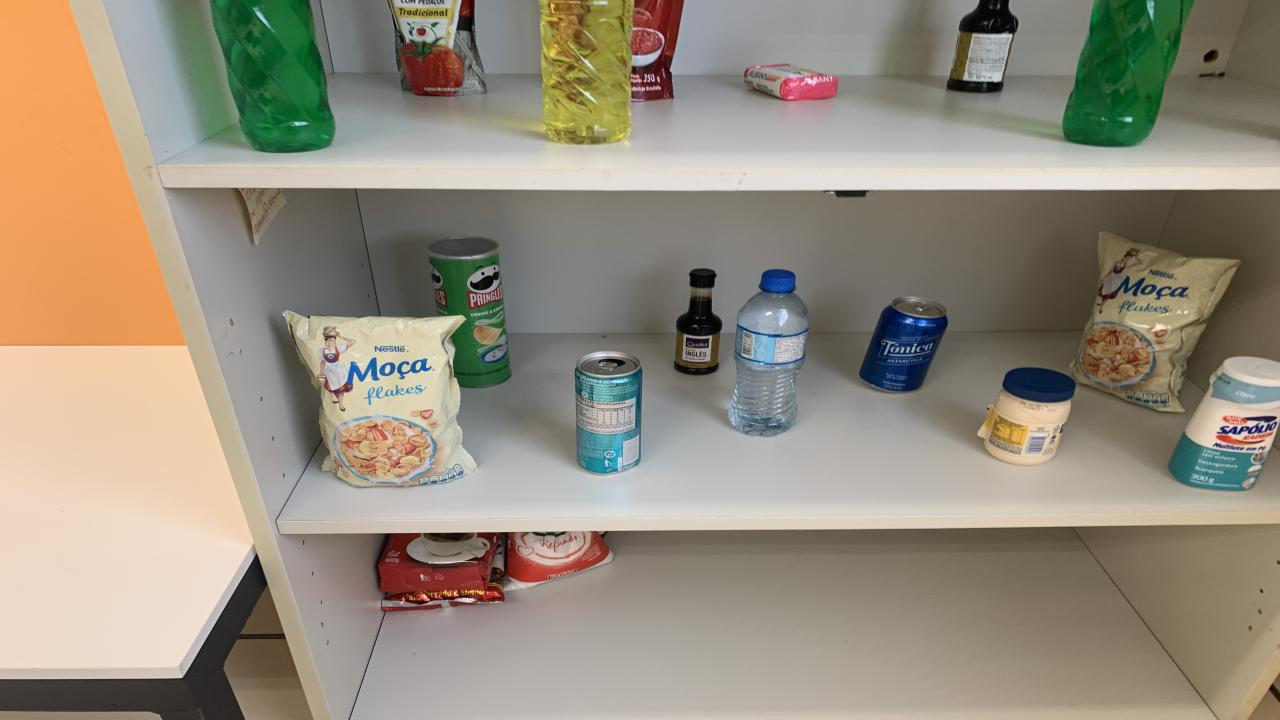Cleaner-Cleanup_Items: (1170, 356, 1280, 489)
Detergent-Cleanup_Items: (210, 0, 335, 152), (1062, 0, 1192, 146), (540, 0, 632, 144)
English_Sauce-Pantry_Items: (948, 0, 1018, 92), (675, 268, 722, 375)
Flakes-Snacks: (285, 311, 475, 486), (1070, 232, 1240, 412)
Mayonnaise-Pantry_Items: (980, 368, 1075, 465)
Pringles-Snacks: (428, 236, 510, 388)
Soap-Cleanup_Items: (745, 64, 838, 99)
Tea-Drinks: (575, 351, 642, 474)
Tomato_Sauce-Pantry_Items: (390, 0, 485, 96), (630, 0, 682, 101)
Tonic-Drinks: (860, 296, 948, 392)
Water_Bottle-Drinks: (730, 270, 810, 437)
